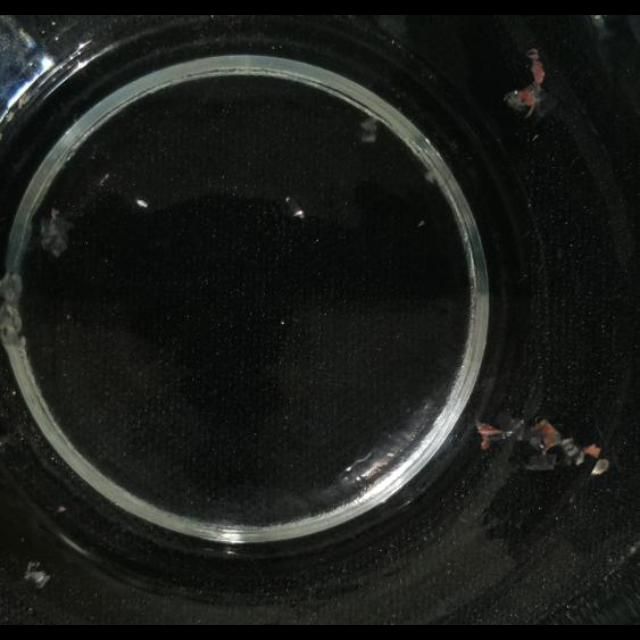Fibre: (40, 206, 74, 258), (23, 560, 51, 590), (359, 117, 379, 143)
Fragment: (476, 412, 606, 472), (504, 48, 548, 120), (525, 48, 545, 88)
